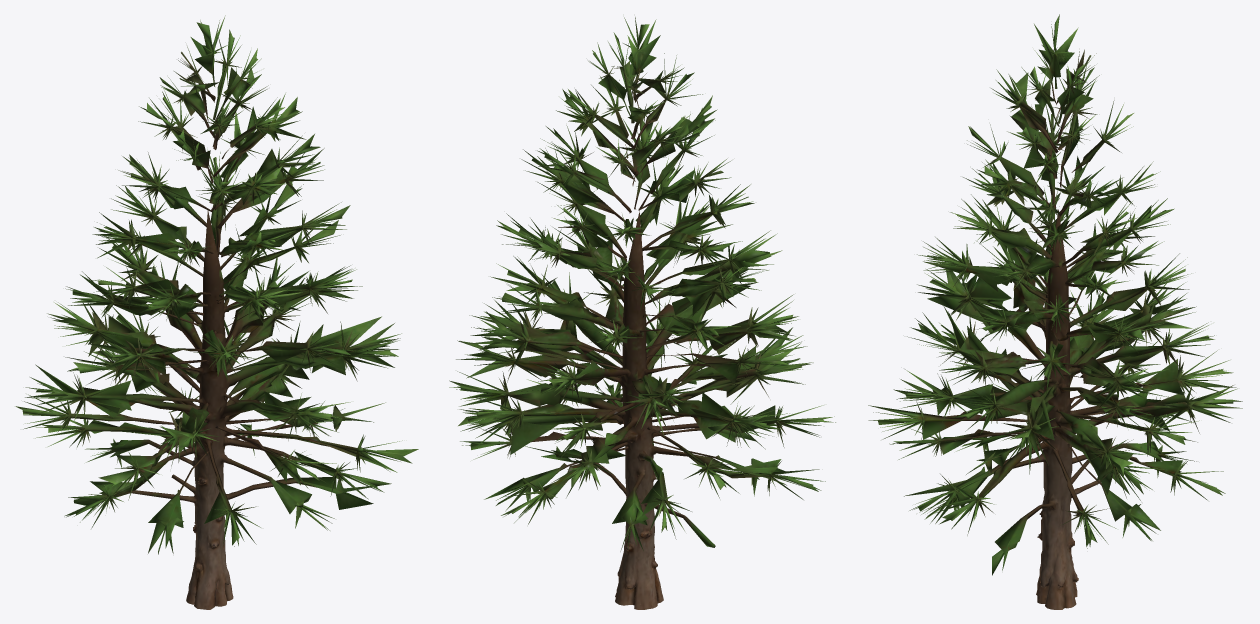
Rendered from pine+tree+3d+model.glb.
The picture shows the model from 3 angles, left to right: view 1: azimuth 30°, elevation 25°; view 2: azimuth 150°, elevation 25°; view 3: azimuth 270°, elevation 25°; orthographic projection.
Parts seen in each view (by area): view 1: tripo_node_47ca5521-a775-494c-bf3e-2e0f4f1c7b1b; view 2: tripo_node_47ca5521-a775-494c-bf3e-2e0f4f1c7b1b; view 3: tripo_node_47ca5521-a775-494c-bf3e-2e0f4f1c7b1b.
Boxes of the visible parts, box(x1,y1,x2,y2) form: tripo_node_47ca5521-a775-494c-bf3e-2e0f4f1c7b1b: box(15, 15, 418, 609); tripo_node_47ca5521-a775-494c-bf3e-2e0f4f1c7b1b: box(449, 17, 835, 609); tripo_node_47ca5521-a775-494c-bf3e-2e0f4f1c7b1b: box(868, 14, 1242, 609).
Bounding box in the file's own units: 0.6113 × 0.998 × 0.5918.
Materials: 1 (1 with a texture image).
